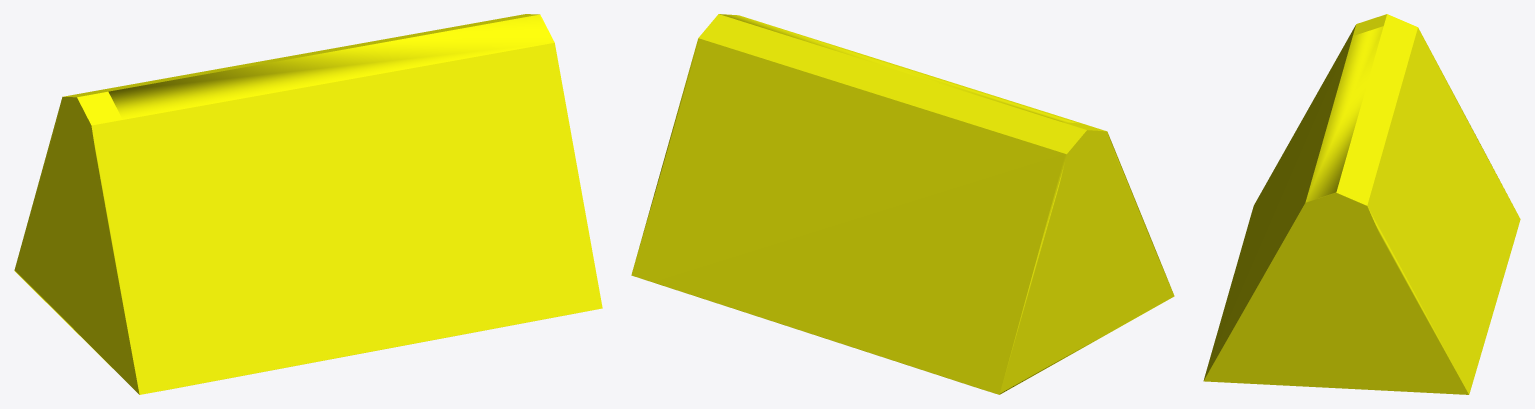
Rendered from SeeSaw.fbx.
3 views of the same model, side by side, from view 1: azimuth 30°, elevation 25°; view 2: azimuth 150°, elevation 25°; view 3: azimuth 270°, elevation 25° (orthographic). The views are drawn at different scales.
Visible parts, largest first — view 1: Diving_Board_Pivot.001; view 2: Diving_Board_Pivot.001; view 3: Diving_Board_Pivot.001.
Boxes of the visible parts, box(x1,y1,x2,y2) form: Diving_Board_Pivot.001: box(14, 14, 602, 394); Diving_Board_Pivot.001: box(631, 14, 1174, 394); Diving_Board_Pivot.001: box(1203, 14, 1520, 394).
Bounding box in the file's own units: 470 × 227 × 329.
